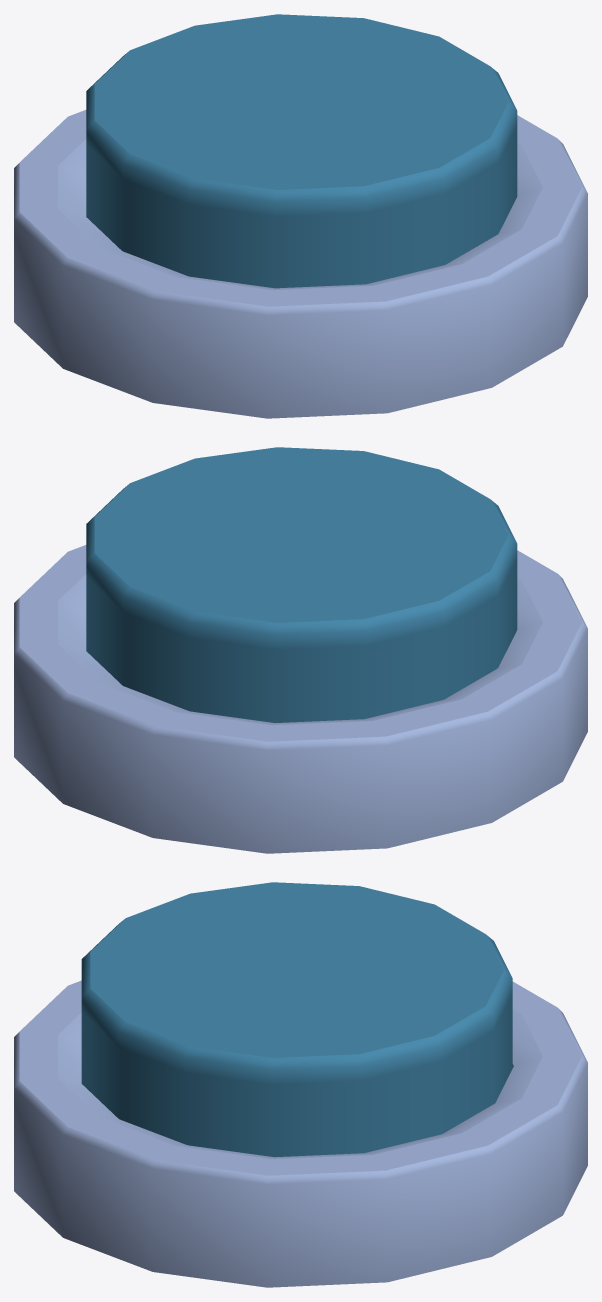
Rendered from button.fbx.
3 views of the same model, one above another, from view 1: azimuth 30°, elevation 25°; view 2: azimuth 150°, elevation 25°; view 3: azimuth 270°, elevation 25° (orthographic).
Parts seen in each view (by area): view 1: clicker.001, button; view 2: clicker.001, button; view 3: clicker.001, button.
Boxes of the visible parts, bbox=[...] form: clicker.001: bbox=[86, 14, 517, 288]; button: bbox=[14, 110, 587, 418]; clicker.001: bbox=[86, 447, 517, 722]; button: bbox=[14, 545, 587, 853]; clicker.001: bbox=[81, 882, 512, 1157]; button: bbox=[14, 980, 587, 1287].
Size of the model in its own units: 121 by 45.41 by 121.
